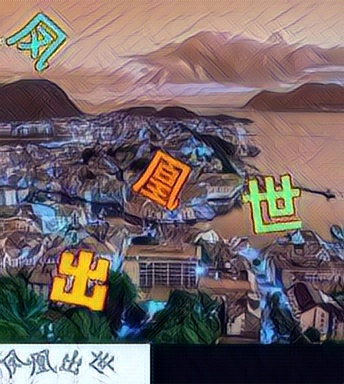B3F6: (47, 246, 112, 311)
B7EF: (5, 12, 70, 77)
BBCB: (129, 145, 194, 210)
CAC0: (241, 171, 306, 236)
